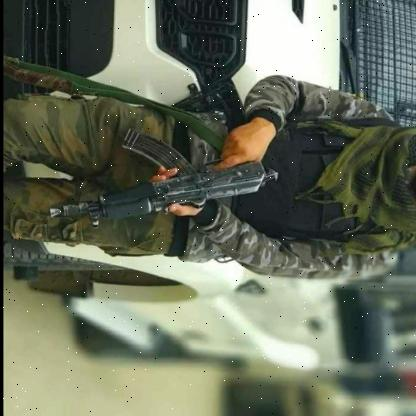rifle: (44, 126, 280, 232)
